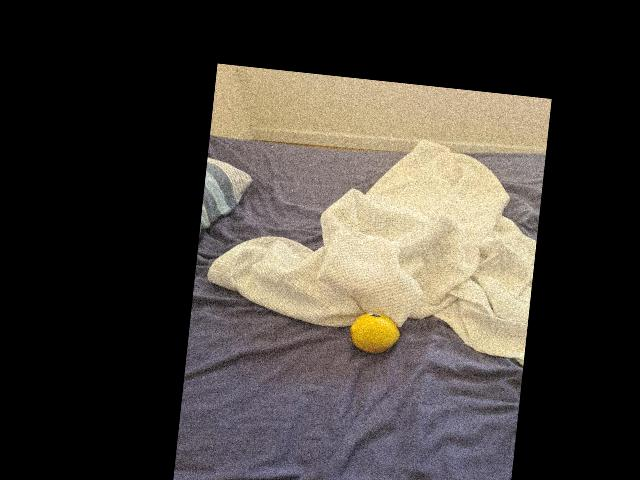lemon: (346, 311, 402, 354)
